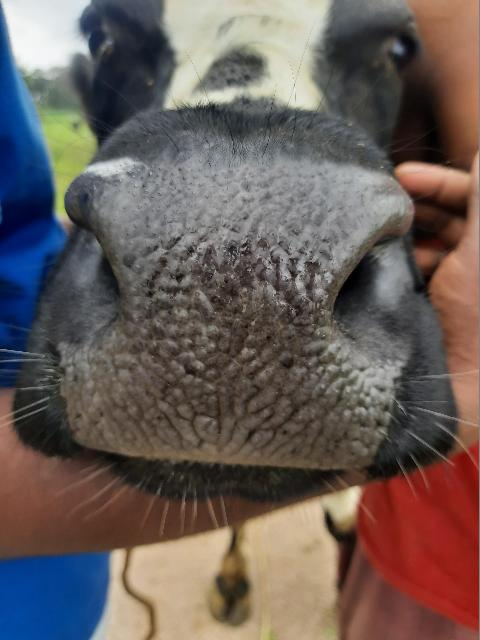Muzzle: (59, 148, 415, 480)
